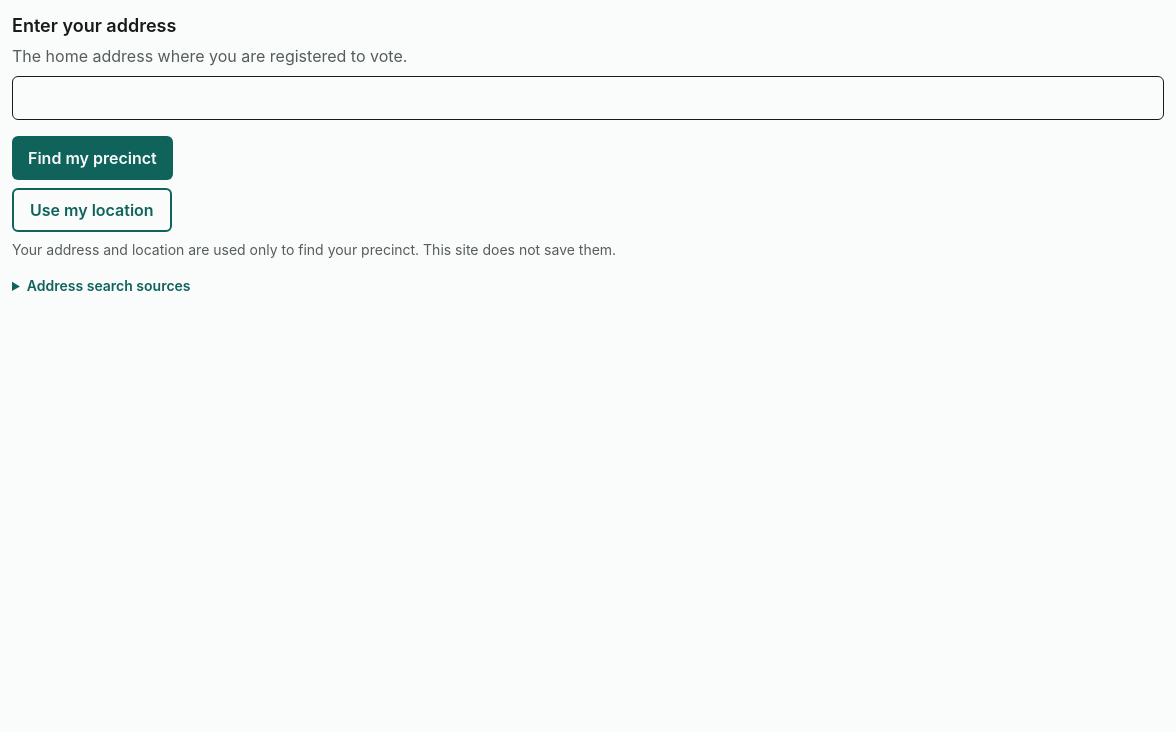
AddressLookup › says the device may not be at home with an out-of-area location result
The image size is (1176, 732).
Click the button "Use my location". click: (92,210)
box: [12,188,172,232]
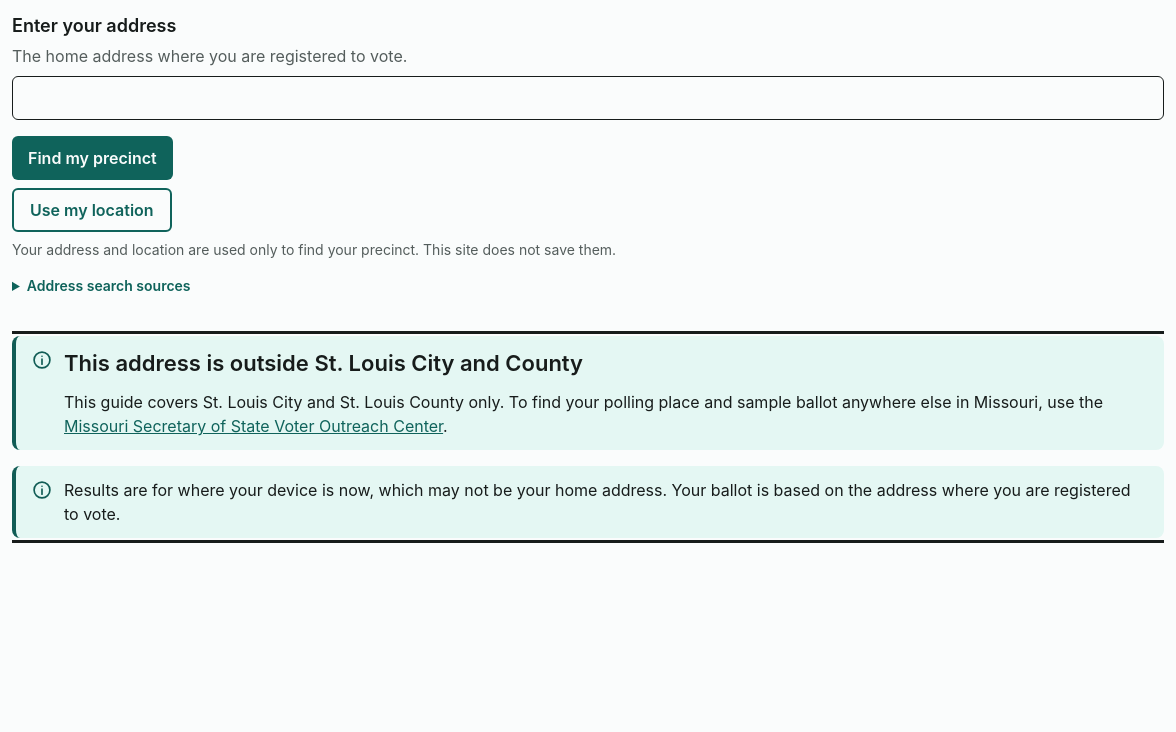
Now the heading "This address is outside St. Louis City and County" is shown, box [64,350,583,376]
Now the text "Results are for where your device is now, which may not be your home address. Your ballot is based on the address where " is shown, box [64,480,1130,524]
